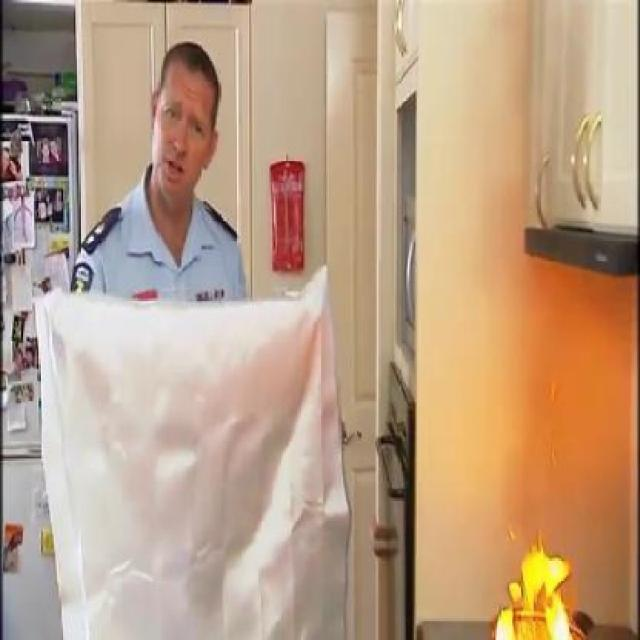fire: (482, 512, 578, 640)
smoke: (492, 272, 620, 497)
